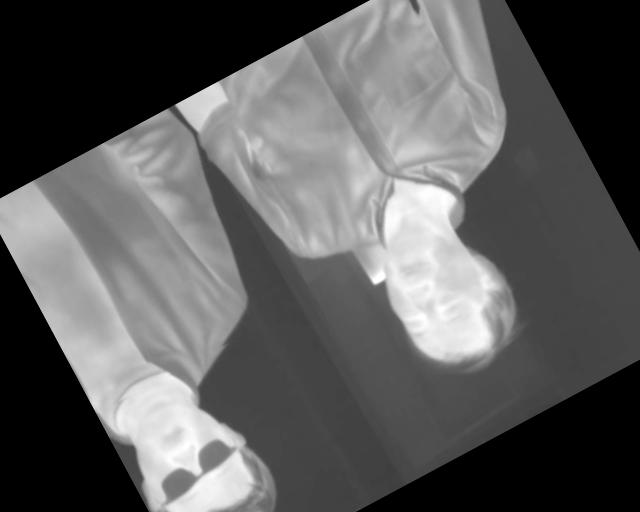face: (359, 198, 539, 395), (107, 372, 296, 512)
